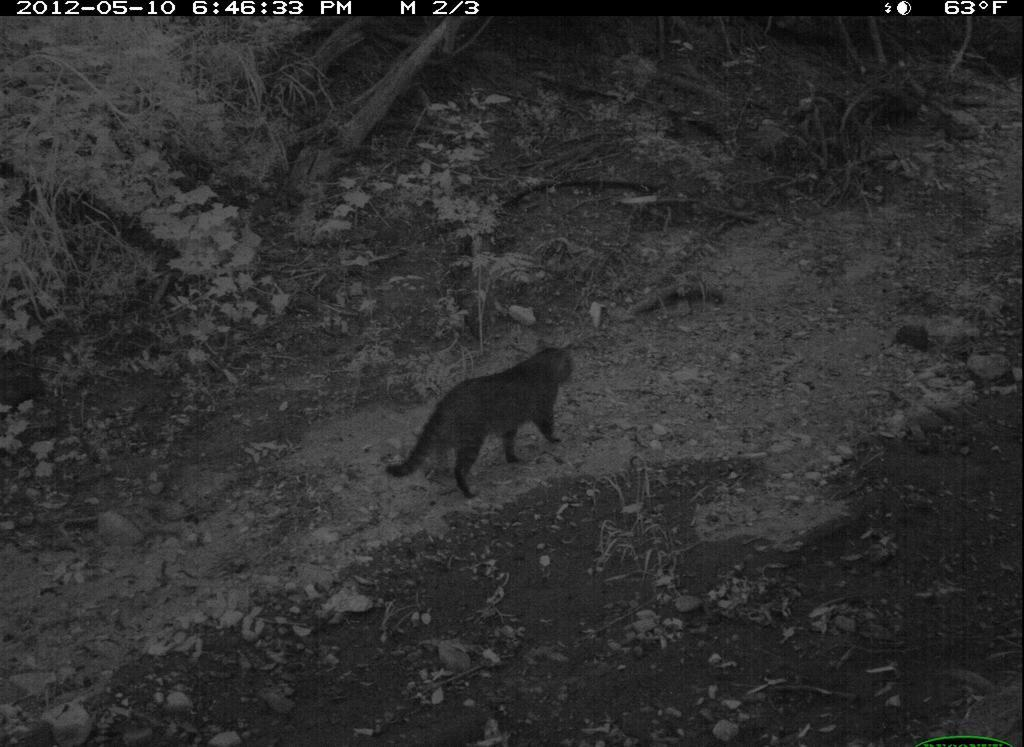cat: (379, 319, 600, 505)
